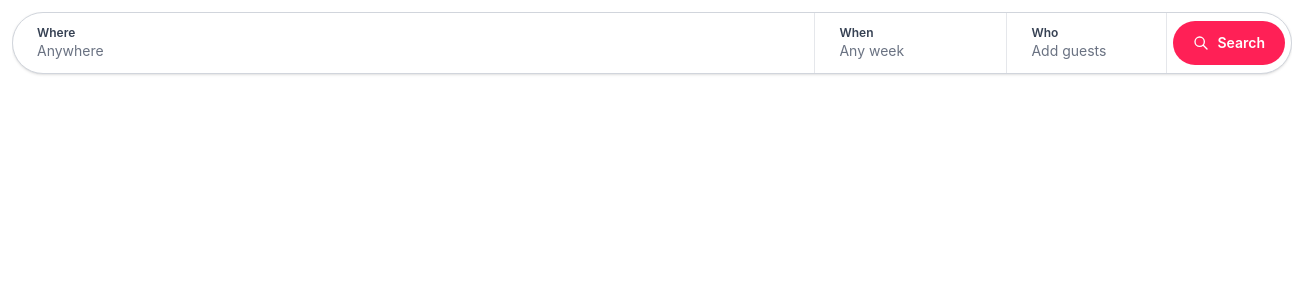
Test: SearchBar panels › toggling pets in Who panel replaces "Add guests" with "Pets" in pill
The image size is (1292, 306).
Click the text "Add guests": (1069, 50) [1032,42,1106,59]
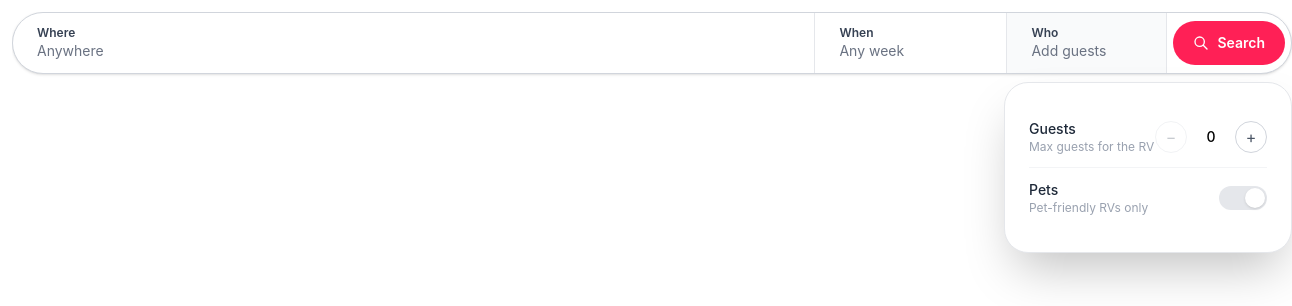
Click the button named "Enable pets filter": (1243, 198) [1219,186,1267,210]
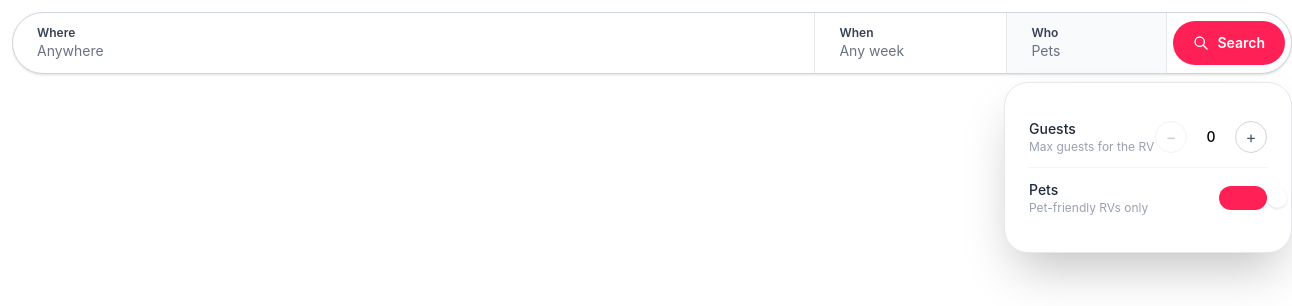
Now the button "Add guests" is gone
